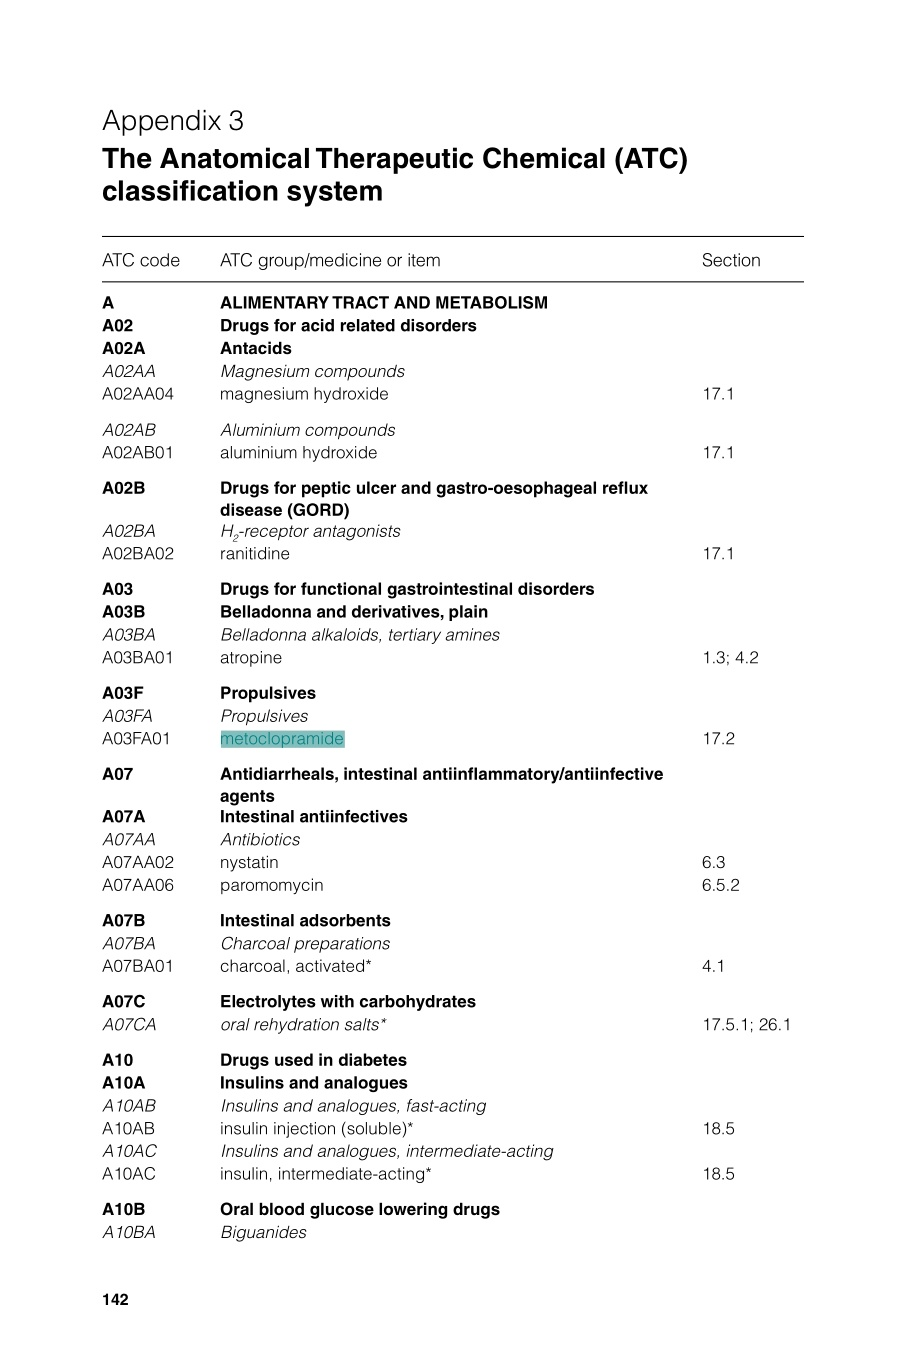partial_lined: (99, 234, 804, 1246)
